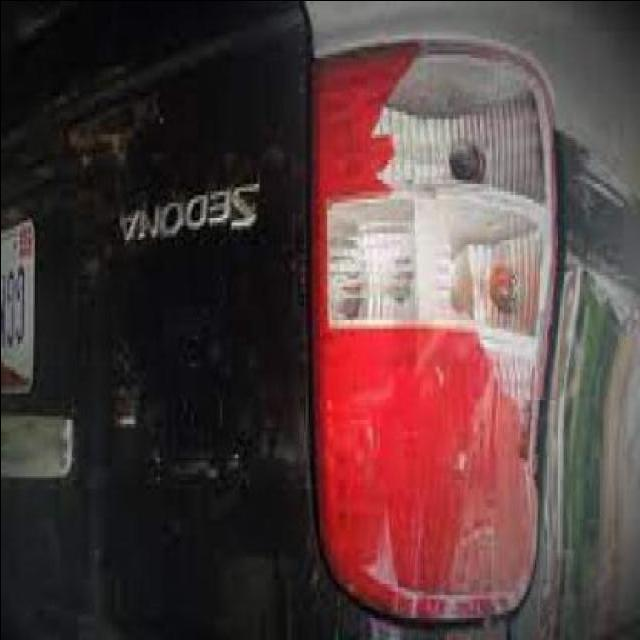Taillight-Damage: (306, 29, 566, 640)
